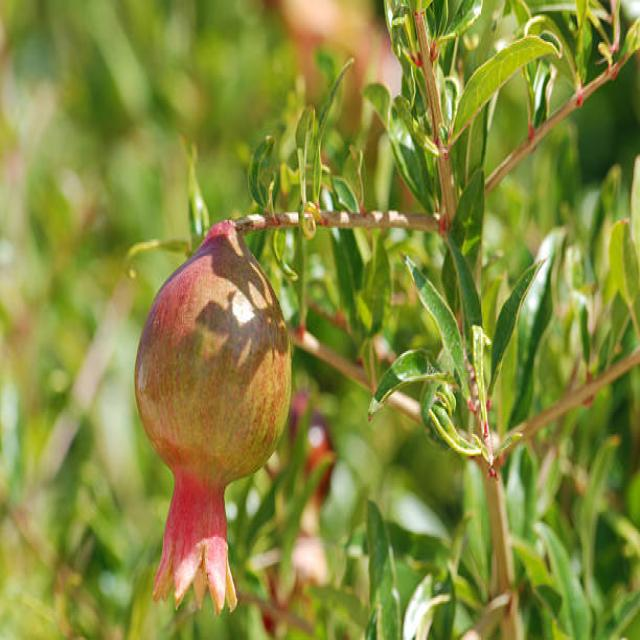Unripe: (133, 220, 292, 616)
